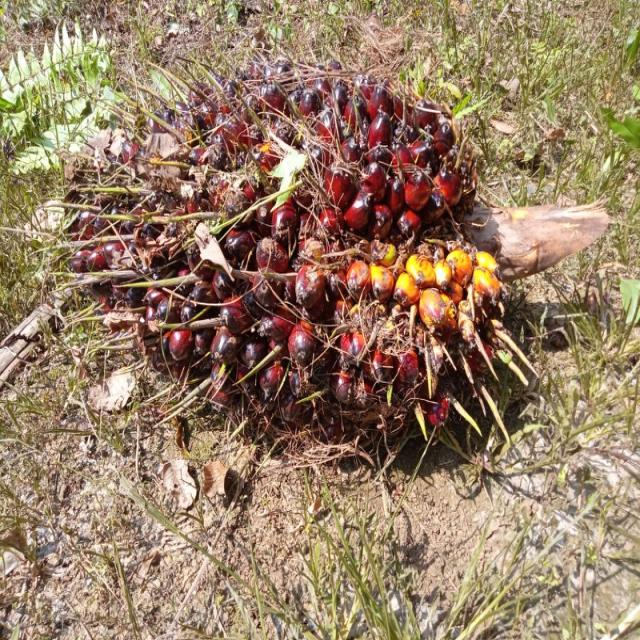fraksi 1: (78, 68, 508, 430)
